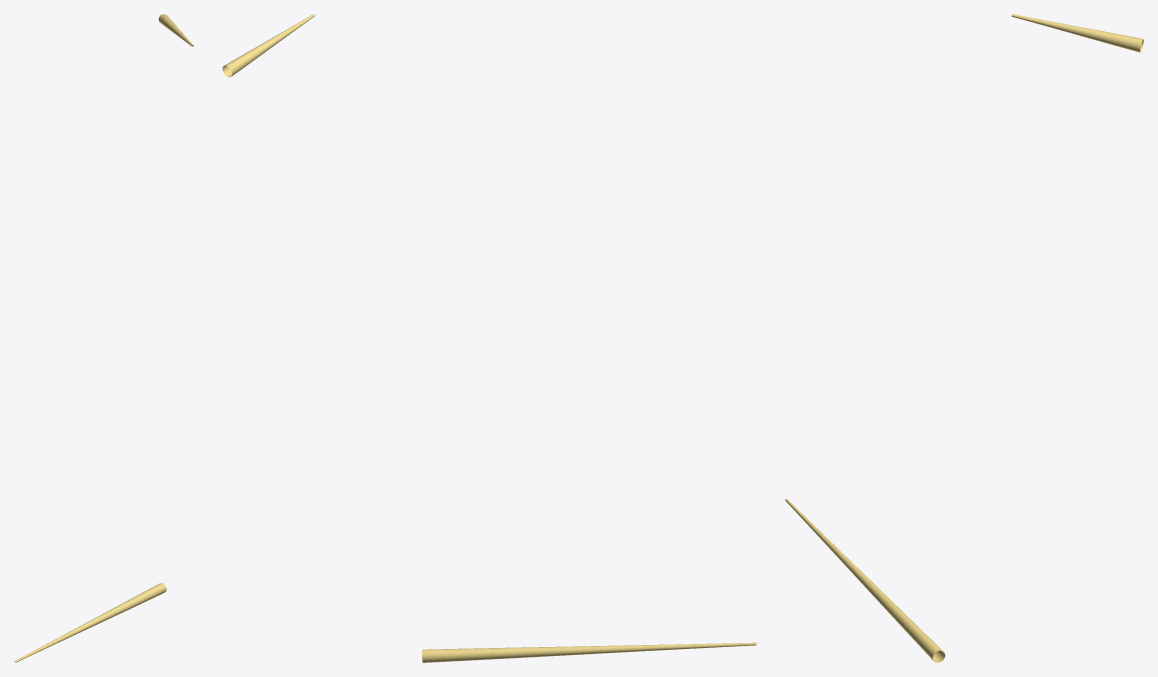
3 views of the same model, side by side, from view 1: azimuth 30°, elevation 25°; view 2: azimuth 150°, elevation 25°; view 3: azimuth 270°, elevation 25° (orthographic). The views are drawn at different scales.
Parts seen in each view (by area): view 1: ZA_fe28850ef976736c; view 2: ZA_fe28850ef976736c; view 3: ZA_fe28850ef976736c.
Boxes of the visible parts, bbox=[...] form: ZA_fe28850ef976736c: bbox=[14, 14, 193, 662]; ZA_fe28850ef976736c: bbox=[222, 14, 756, 662]; ZA_fe28850ef976736c: bbox=[785, 14, 1143, 662].
Size of the model in its own units: 0.0314 by 0.0539 by 0.0255.
